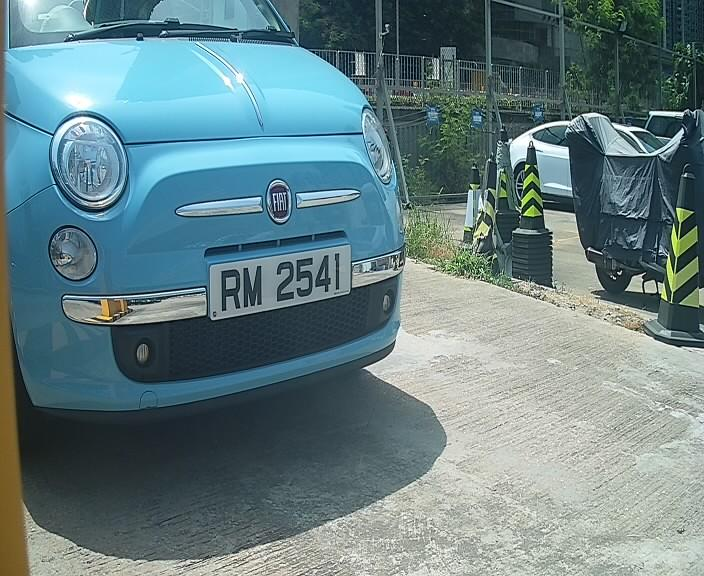License Plate: (199, 235, 349, 327)
